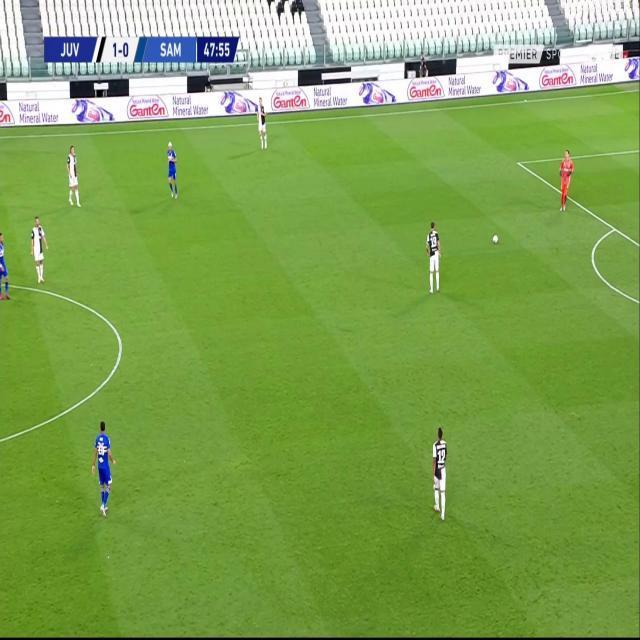ball: (492, 231, 500, 246)
goalkeeper: (558, 148, 574, 212)
player: (92, 416, 117, 516), (430, 423, 450, 520), (425, 220, 443, 294), (31, 214, 49, 284), (66, 143, 82, 207), (166, 139, 180, 200), (0, 227, 11, 303), (256, 95, 268, 148)
